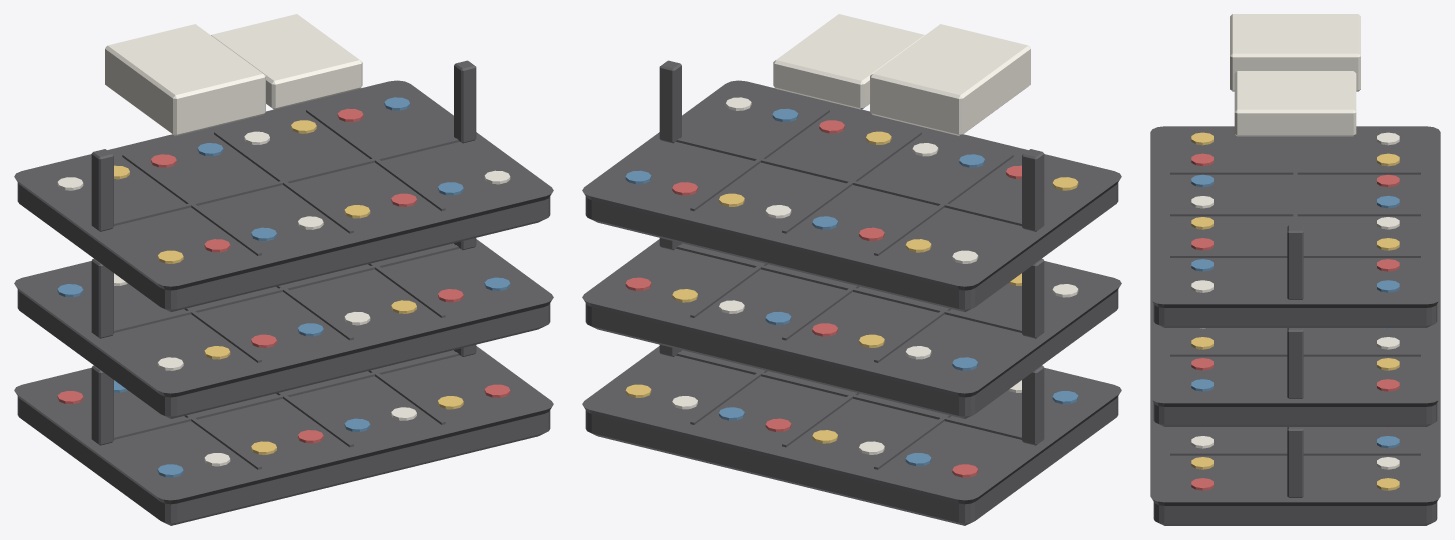
3 renders of one model, left to right at view 1: azimuth 30°, elevation 25°; view 2: azimuth 150°, elevation 25°; view 3: azimuth 270°, elevation 25°, orthographic. The views are drawn at different scales.
Parts seen in each view (by area): view 1: haberdashery-tray-set; view 2: haberdashery-tray-set; view 3: haberdashery-tray-set.
Boxes of the visible parts, x1=… form: haberdashery-tray-set: x1=14, y1=14, x2=553, y2=525; haberdashery-tray-set: x1=582, y1=14, x2=1121, y2=525; haberdashery-tray-set: x1=1150, y1=14, x2=1440, y2=525.
Size of the model in its own units: 0.772 by 0.737 by 0.532.
